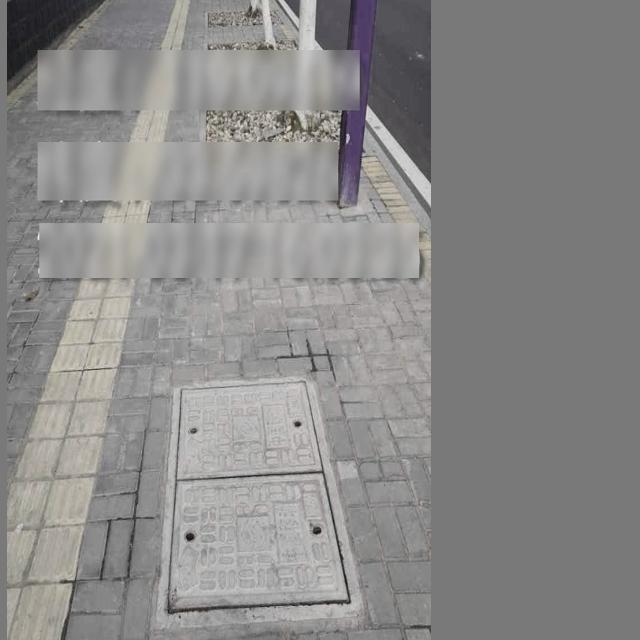good: (155, 373, 366, 623)
